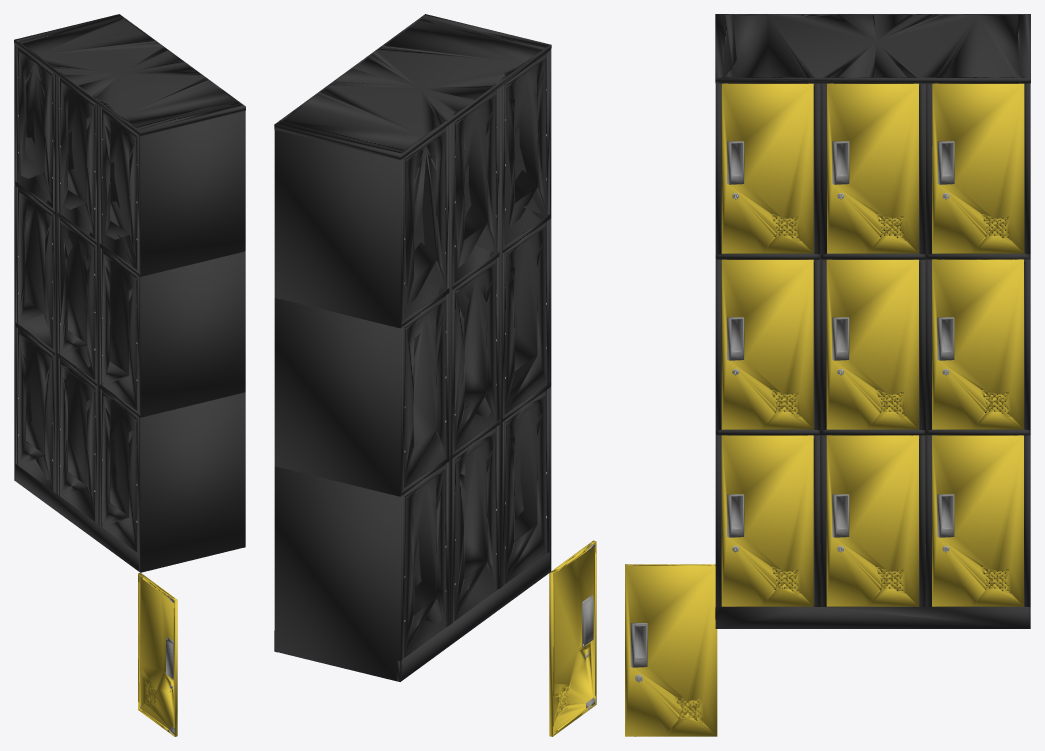
File: facilityFurniture_lockerUnit_multiDoor_a01.glb
3 renders of one model, left to right at view 1: azimuth 30°, elevation 25°; view 2: azimuth 150°, elevation 25°; view 3: azimuth 270°, elevation 25°, orthographic. The views are drawn at different scales.
Visible parts, largest first — view 1: body_01_mesh_00, lockerDoor_05_mesh_00, lockerDoor_07_mesh_00, lockerDoor_03_mesh_00, lockerDoor_09_mesh_00, lockerDoor_02_mesh_00, lockerDoor_06_mesh_00, lockerDoor_08_mesh_00; view 2: body_01_mesh_00, lockerDoor_05_mesh_00, lockerDoor_02_mesh_00, lockerDoor_07_mesh_00, lockerDoor_03_mesh_00, lockerDoor_08_mesh_00, lockerDoor_06_mesh_00, lockerDoor_09_mesh_00, lockerDoor_01_mesh_00; view 3: body_01_mesh_00, lockerDoor_01_mesh_00 (×2), lockerDoor_04_mesh_00 (×2), lockerDoor_07_mesh_00 (×2), lockerDoor_08_mesh_00 (×2), lockerDoor_06_mesh_00 (×2), lockerDoor_02_mesh_00 (×2), lockerDoor_03_mesh_00, lockerDoor_05_mesh_00, lockerDoor_09_mesh_00.
Boxes of the visible parts, box(x1,y1,x2,y2) form: body_01_mesh_00: box(14, 14, 245, 572); lockerDoor_05_mesh_00: box(138, 576, 176, 735); lockerDoor_07_mesh_00: box(138, 578, 177, 736); lockerDoor_03_mesh_00: box(139, 574, 177, 732); lockerDoor_09_mesh_00: box(140, 576, 174, 736); lockerDoor_02_mesh_00: box(138, 577, 175, 730); lockerDoor_06_mesh_00: box(138, 573, 174, 735); lockerDoor_08_mesh_00: box(138, 573, 175, 732); body_01_mesh_00: box(274, 14, 551, 681); lockerDoor_05_mesh_00: box(551, 543, 596, 734); lockerDoor_02_mesh_00: box(551, 541, 596, 734); lockerDoor_07_mesh_00: box(549, 557, 596, 736); lockerDoor_03_mesh_00: box(551, 540, 596, 734); lockerDoor_08_mesh_00: box(551, 542, 596, 736); lockerDoor_06_mesh_00: box(551, 541, 596, 735); lockerDoor_09_mesh_00: box(553, 542, 596, 734); lockerDoor_01_mesh_00: box(549, 541, 596, 730); body_01_mesh_00: box(715, 14, 1030, 628); lockerDoor_01_mesh_00 (×2): box(625, 83, 813, 735); lockerDoor_04_mesh_00 (×2): box(625, 259, 813, 732); lockerDoor_07_mesh_00 (×2): box(625, 435, 813, 736); lockerDoor_08_mesh_00 (×2): box(625, 435, 918, 736); lockerDoor_06_mesh_00 (×2): box(629, 259, 1023, 734); lockerDoor_02_mesh_00 (×2): box(625, 83, 918, 721); lockerDoor_03_mesh_00: box(932, 83, 1024, 253); lockerDoor_05_mesh_00: box(826, 259, 918, 429); lockerDoor_09_mesh_00: box(932, 435, 1023, 606).
Size of the model in its own units: 0.5183 by 2.63 by 1.34.
29 materials, 19 textured.
